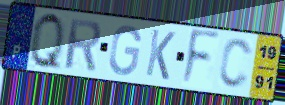C: (217, 37, 254, 92)
F: (179, 28, 222, 89)
G: (107, 23, 143, 77)
K: (143, 27, 177, 83)
Q: (30, 10, 66, 74)
R: (63, 16, 103, 73)
